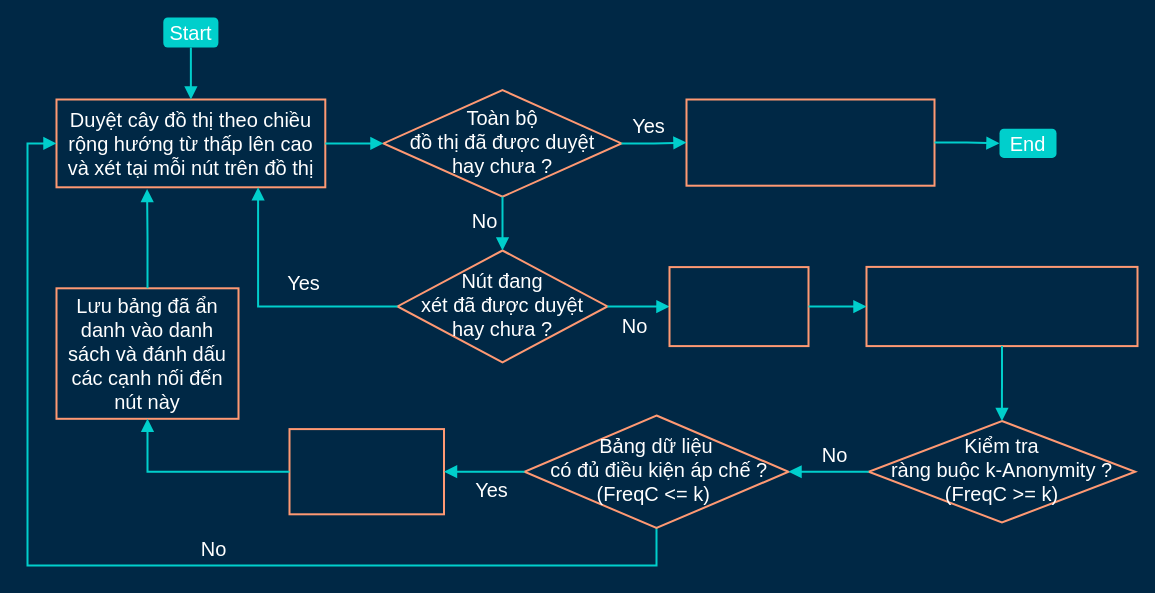
Image size: 1155x593. Some labels were removed from this diagram. The shapes that lost their labels are listed below. From the top down, each one's centre as x and y in pixels, then its label:
At (810,142): "Trả về bảng dữ liệu ẩn danh tương ứng với nút có kết quả metric tốt nhất".
At (738,306): "Tổng quát bộ dữ liệu theo nút hiện tại".
At (1001,306): "Tính kích thước EQ (FreqC) của bảng đối với các thuộc tính có ở nút hiện tại".
At (366,471): "Áp chế các bộ dữ liệu có FreqC <= k".
